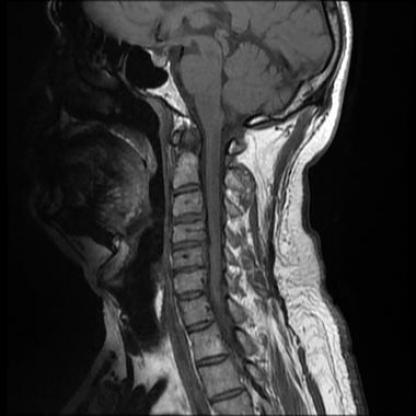Disc Protrusionrotation: (169, 210, 207, 227), (170, 262, 209, 277), (170, 237, 206, 252), (174, 287, 207, 303)
Osteophytesrotation: (169, 210, 207, 227), (170, 262, 209, 277), (170, 237, 206, 252), (174, 287, 207, 303)
